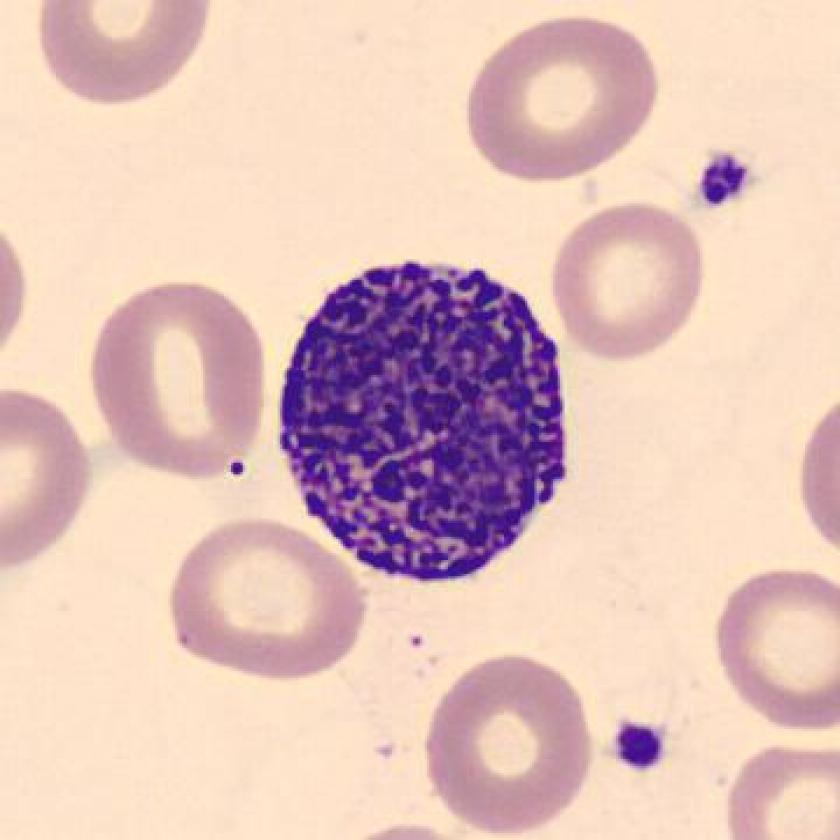basophil: (279, 251, 577, 589)
